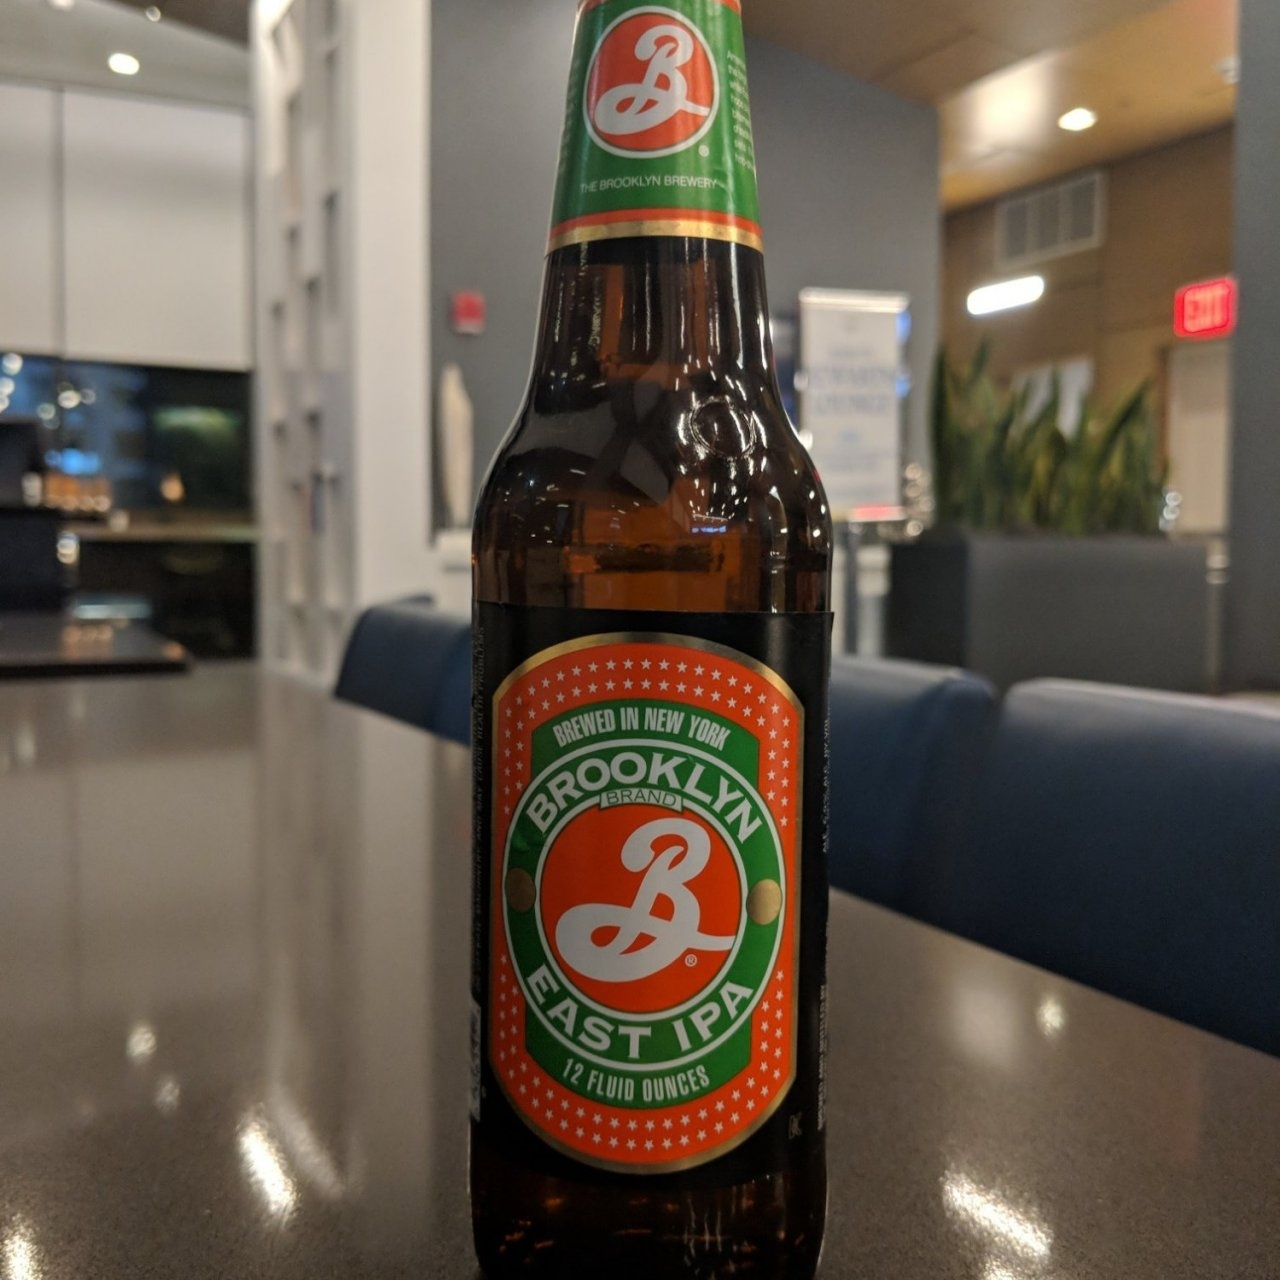beerBottle: (468, 30, 821, 1280)
